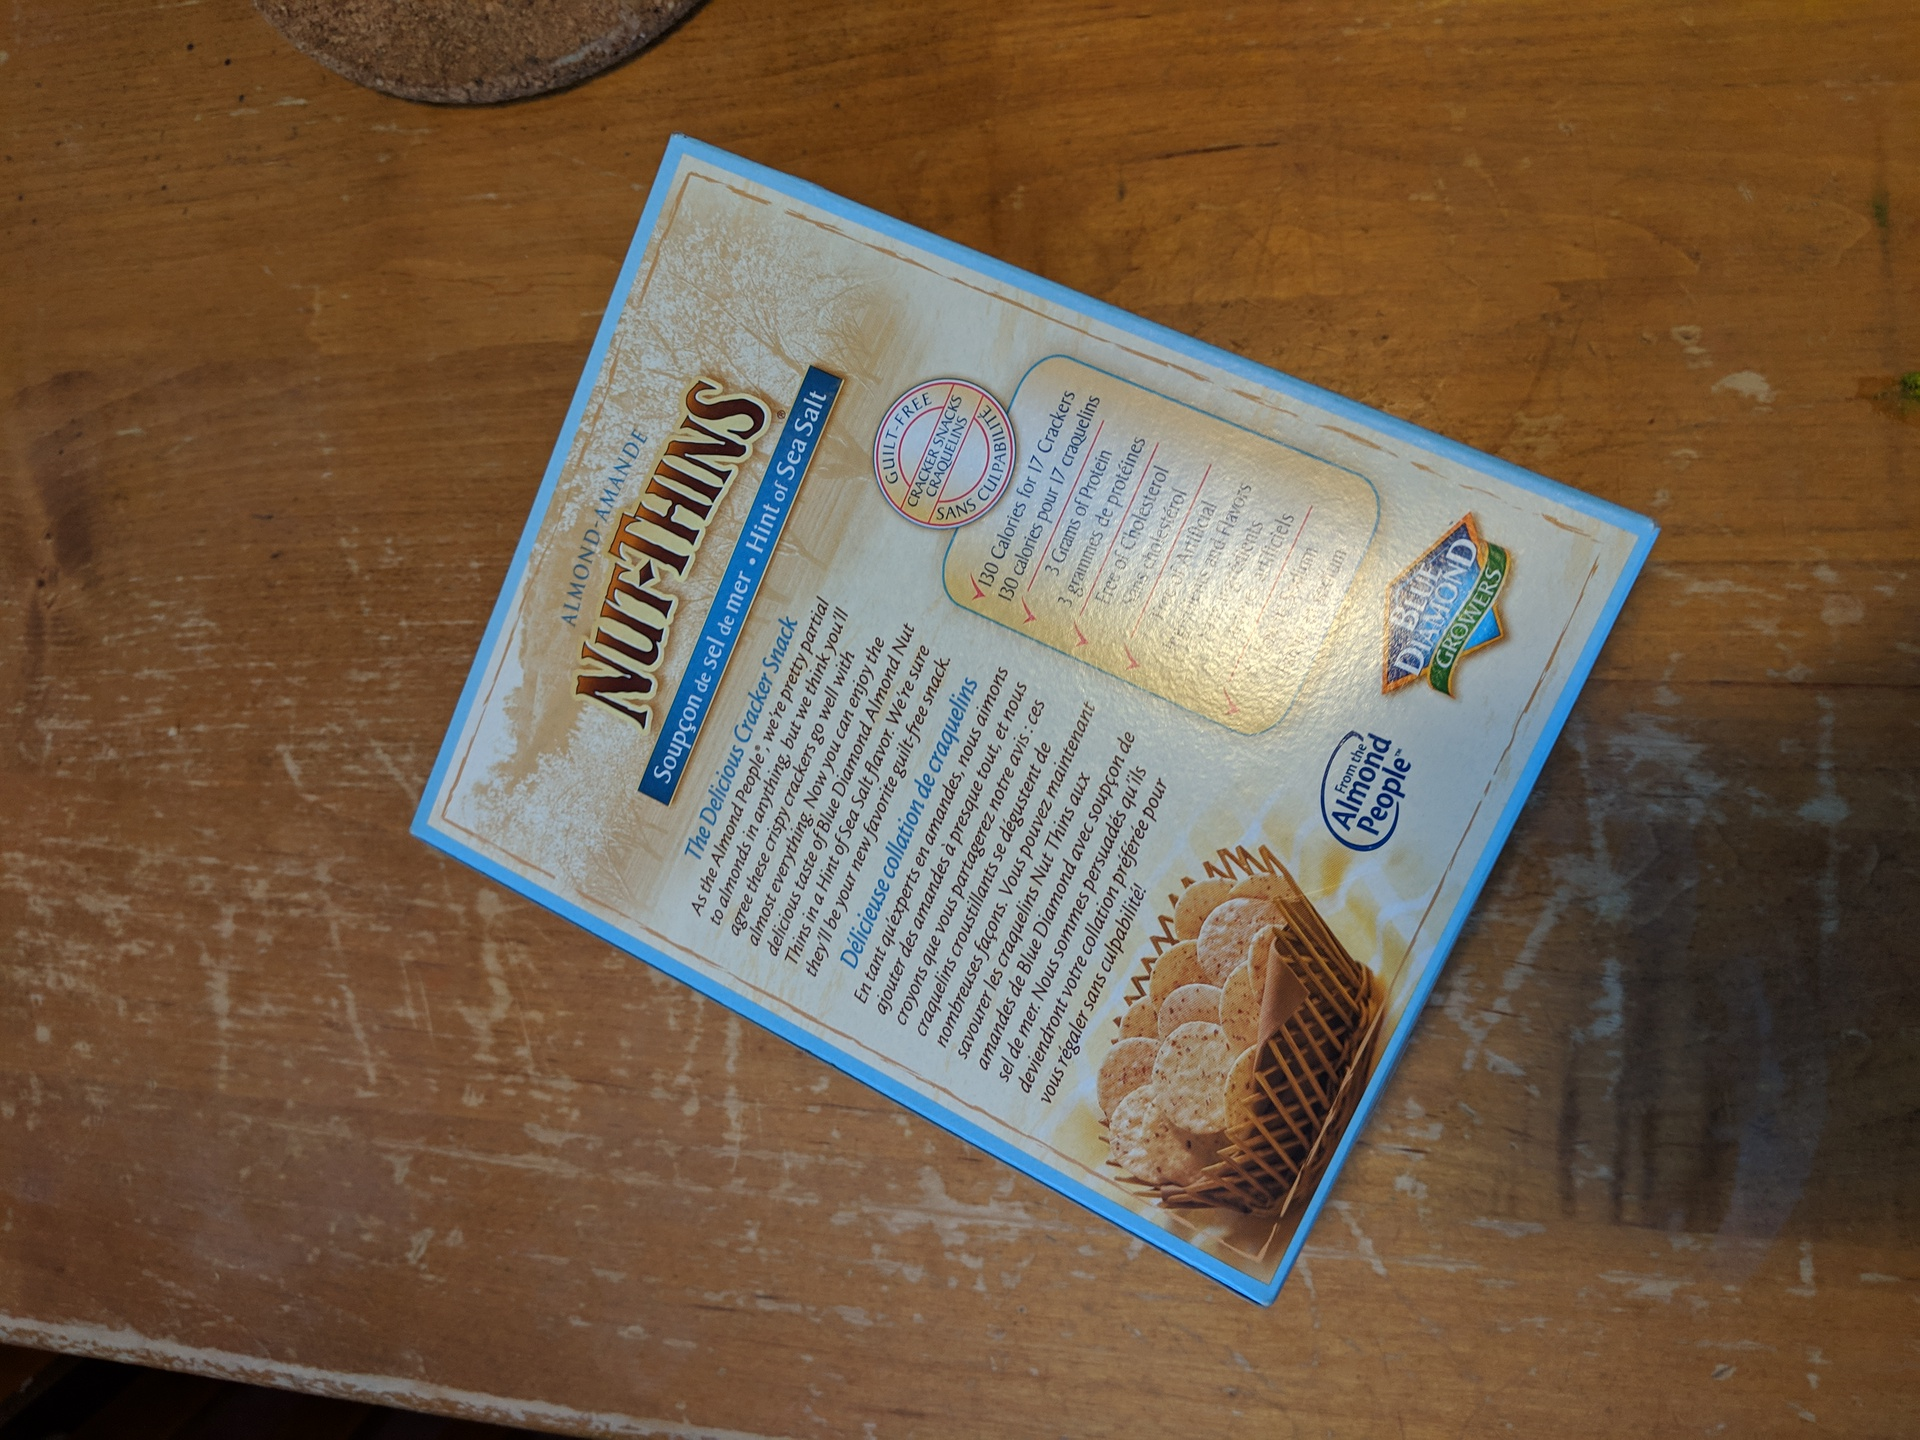blue_diamond_nut_thins_almond_seasalt: (494, 195, 1528, 1174)
